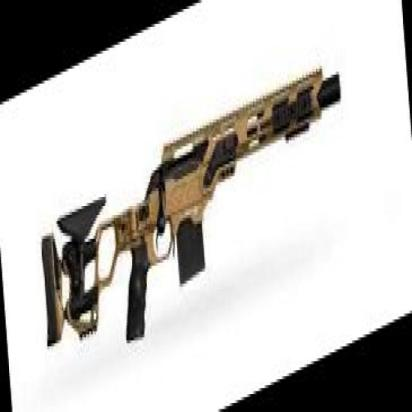Gun: (45, 69, 338, 347)
